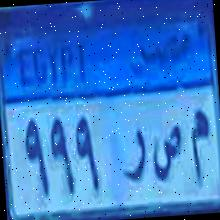9: (20, 112, 49, 198), (72, 113, 102, 194), (46, 114, 76, 195)
meem: (186, 104, 214, 193)
raa: (119, 124, 149, 190)
saad: (148, 125, 186, 192)
